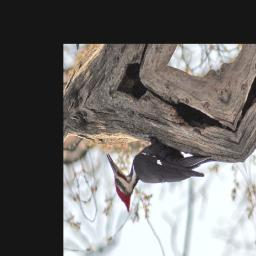Woodpecker: (105, 106, 218, 218)
